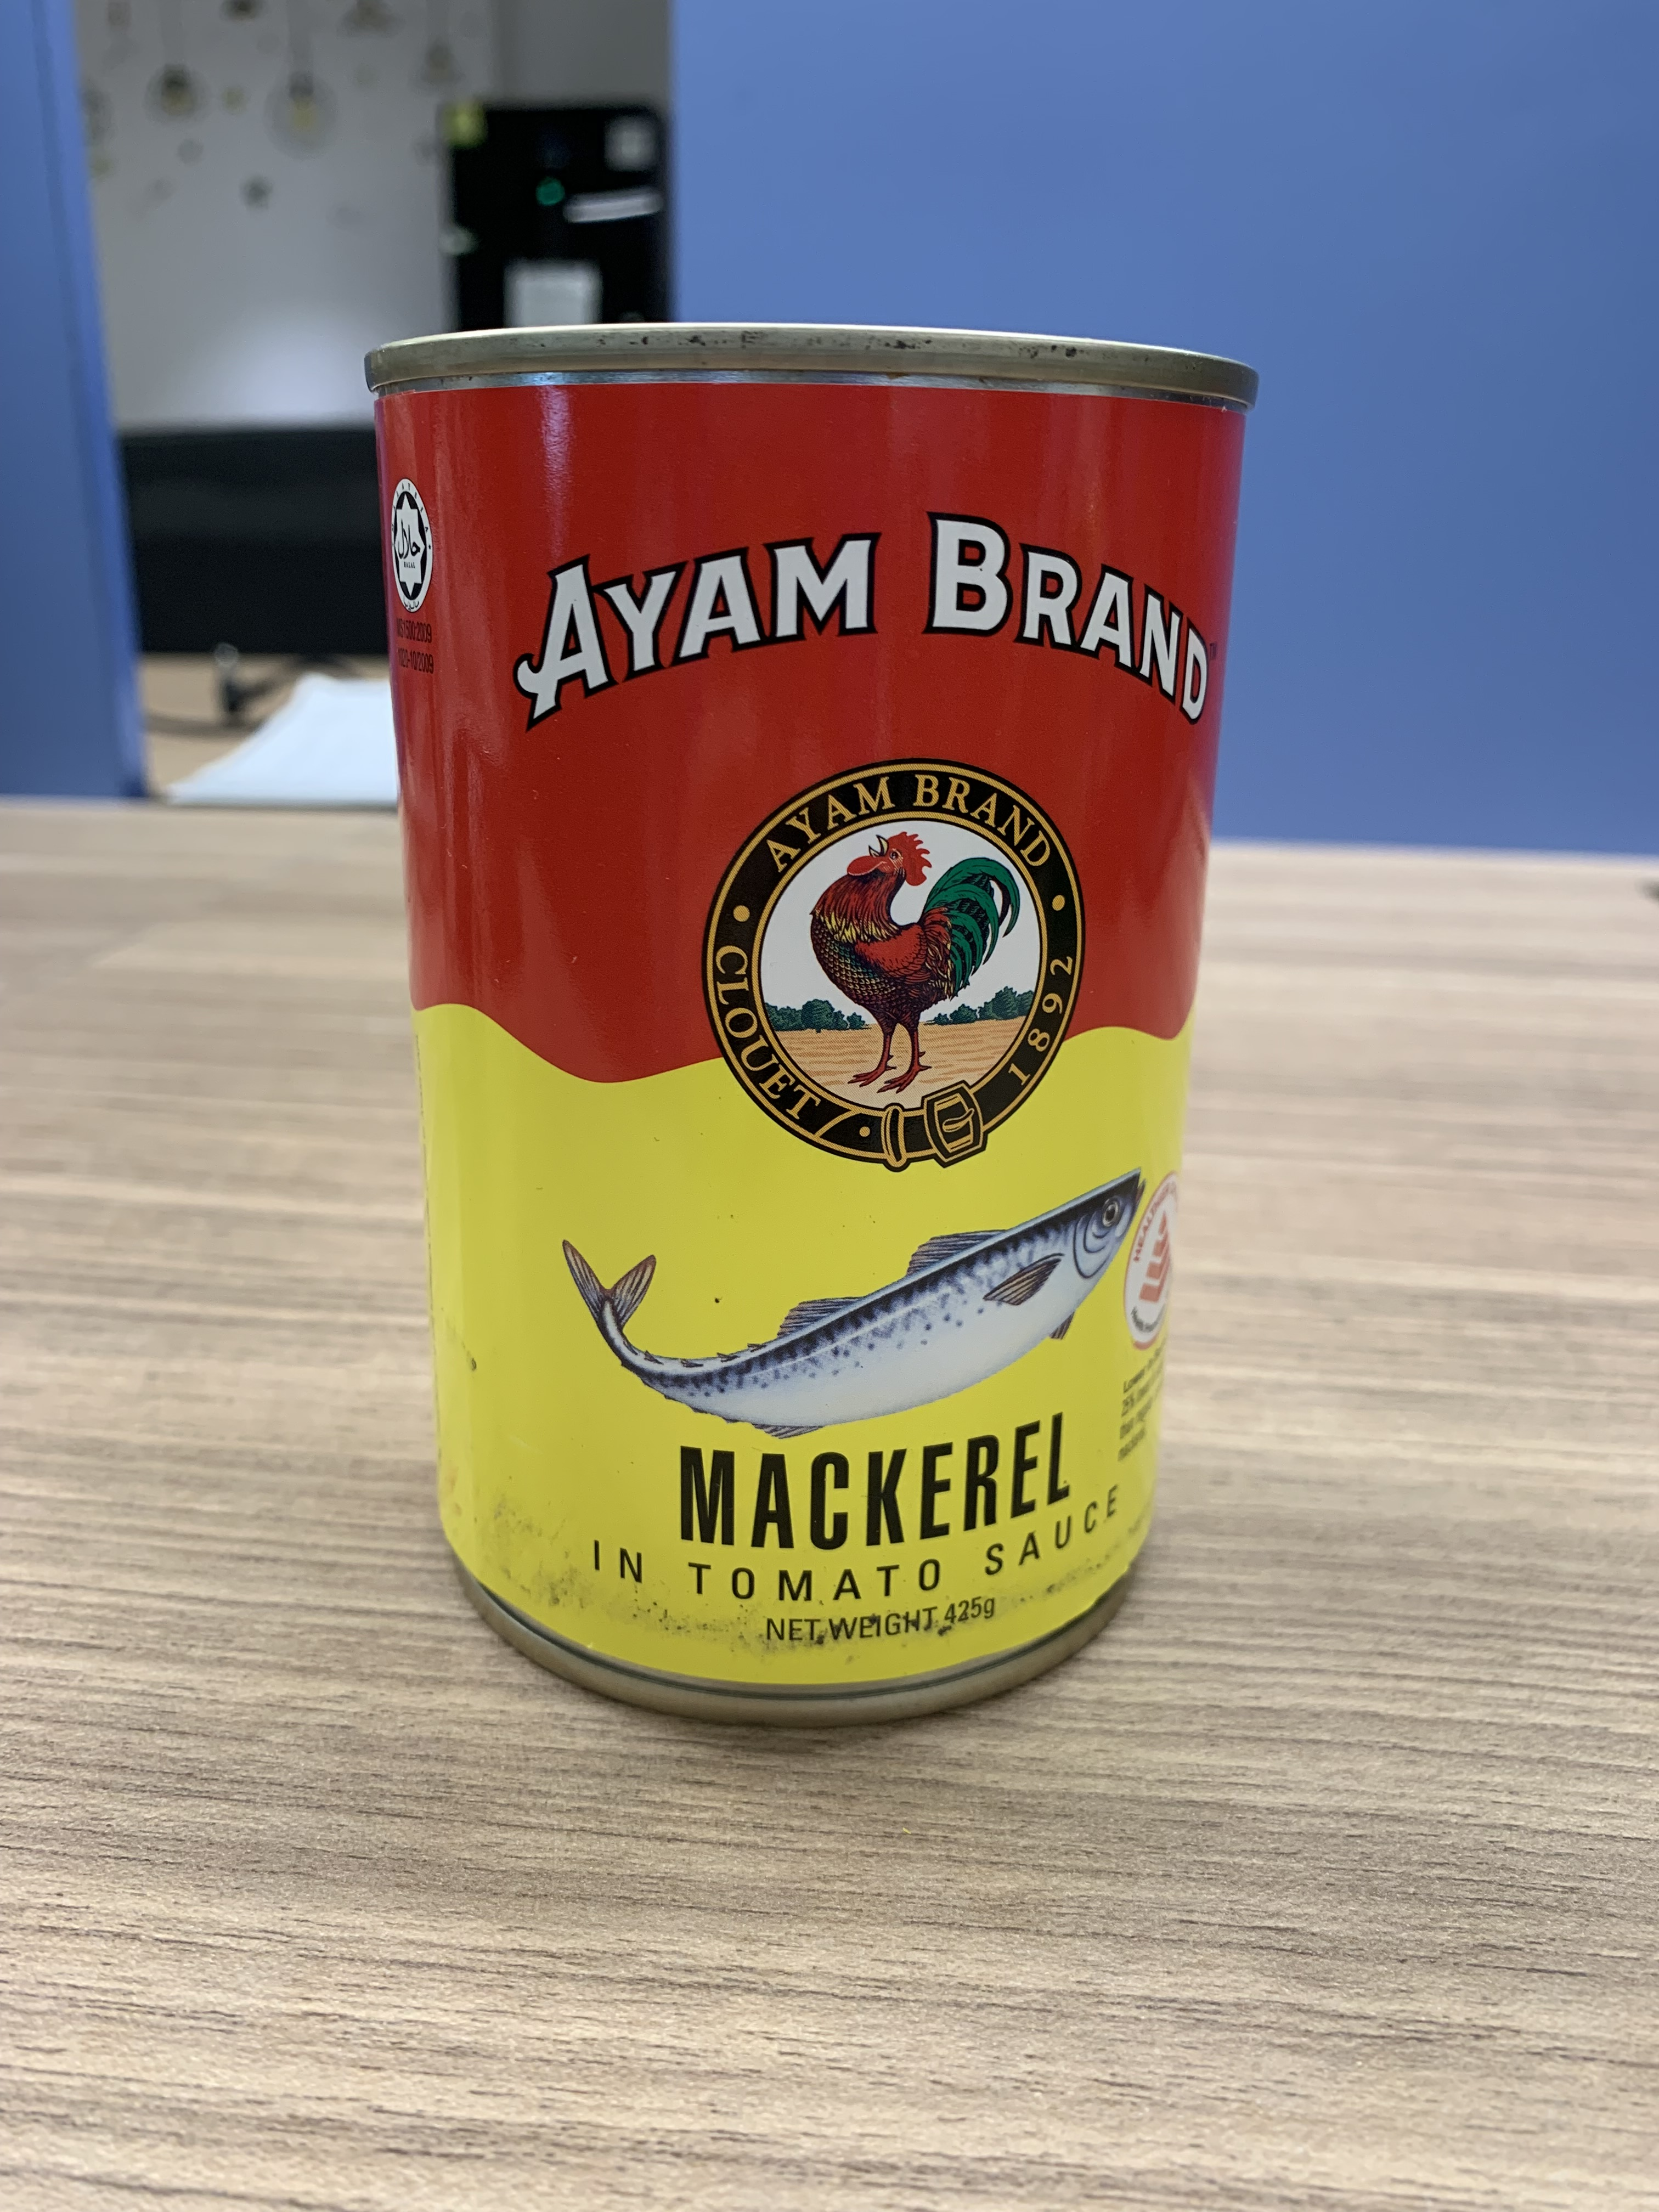sardines_400g-499g: (498, 406, 1190, 1651)
